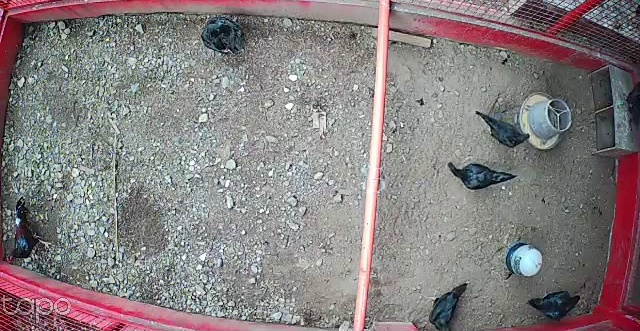Chicken: (443, 154, 519, 192), (423, 279, 469, 331), (475, 108, 532, 148), (525, 285, 586, 321), (198, 17, 245, 58)
Drinker: (505, 242, 544, 278)
Feeder: (518, 88, 572, 152)
Rooster: (0, 198, 55, 267)
